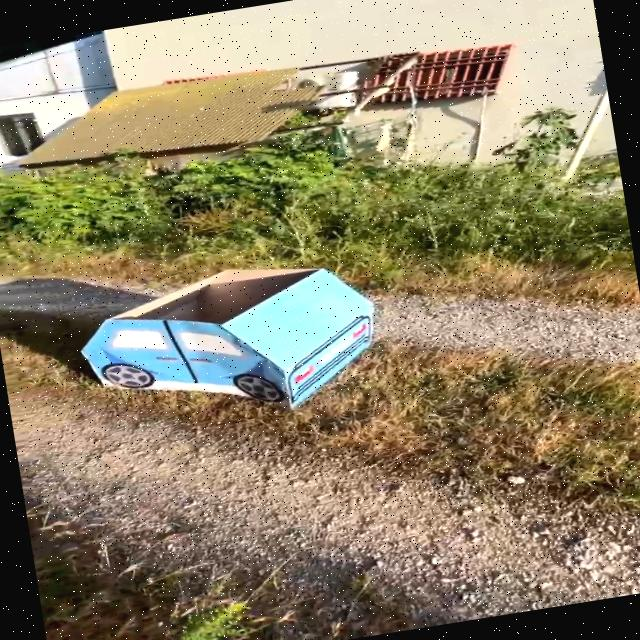blue_car: (0, 215, 470, 490)
